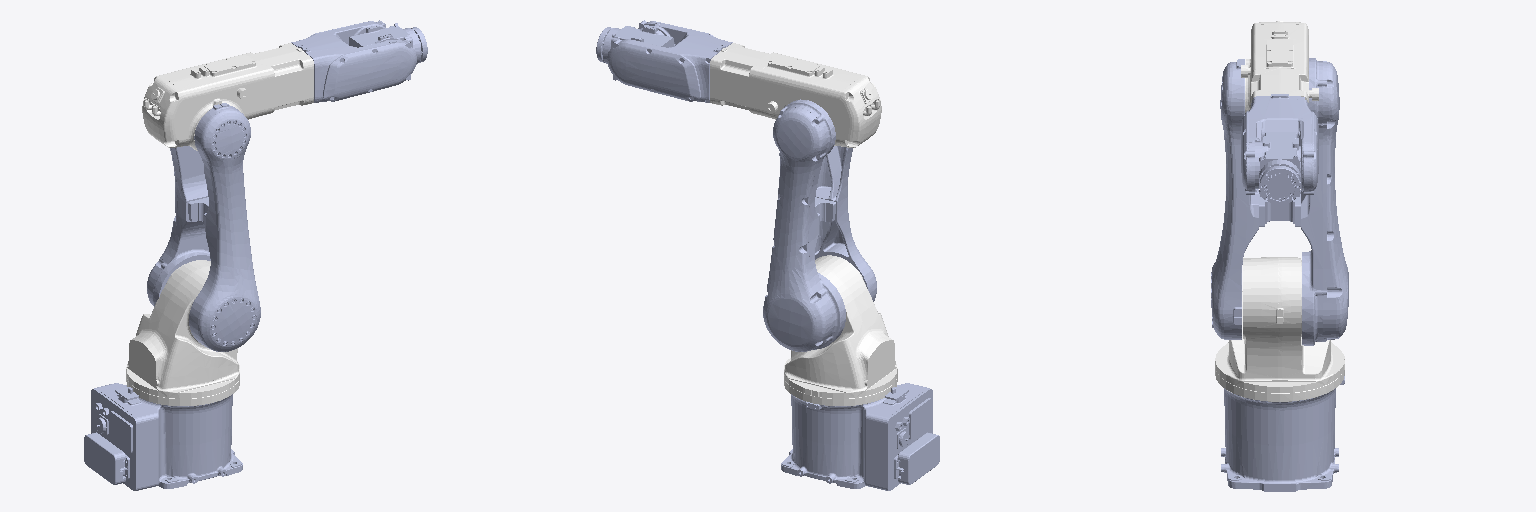
URDF robot description (R7-900_description):
<?xml version="1.0" encoding="utf-8"?>
<!-- This URDF was automatically created by SolidWorks to URDF Exporter! Originally created by [author] ([email redacted]) 
     Commit Version: 1.6.0-4-g7f85cfe  Build Version: 1.6.7995.38578
     For more information, please see http://wiki.ros.org/sw_urdf_exporter -->
<robot
  name="R7-900_description">
  <link
    name="base_link">
    <inertial>
      <origin
        xyz="-0.040413 -3.6248E-05 0.092724"
        rpy="0 0 0" />
      <mass
        value="9.3967" />
      <inertia
        ixx="0.054482"
        ixy="-0.00012575"
        ixz="-0.0033739"
        iyy="0.087595"
        iyz="-9.5456E-06"
        izz="0.084152" />
    </inertial>
    <visual>
      <origin
        xyz="0 0 0"
        rpy="0 0 0" />
      <geometry>
        <mesh
          filename="package://QJ7-900_stl/meshes/base_link.STL" />
      </geometry>
      <material
        name="">
        <color
          rgba="0.79216 0.81961 0.93333 1" />
      </material>
    </visual>
    <collision>
      <origin
        xyz="0 0 0"
        rpy="0 0 0" />
      <geometry>
        <mesh
          filename="package://QJ7-900_stl/meshes/base_link.STL" />
      </geometry>
    </collision>
  </link>

  <link
    name="link_1">
    <inertial>
      <origin
        xyz="0.015148 -0.0035955 0.090973"
        rpy="0 0 0" />
      <mass
        value="6.0875" />
      <inertia
        ixx="0.040605"
        ixy="0.00058873"
        ixz="-0.0077766"
        iyy="0.046881"
        iyz="0.0011242"
        izz="0.032179" />
    </inertial>
    <visual>
      <origin
        xyz="0 0 0"
        rpy="0 0 0" />
      <geometry>
        <mesh
          filename="package://QJ7-900_stl/meshes/link_1.STL" />
      </geometry>
      <material
        name="">
        <color
          rgba="1 1 1 1" />
      </material>
    </visual>
    <collision>
      <origin
        xyz="0 0 0"
        rpy="0 0 0" />
      <geometry>
        <mesh
          filename="package://QJ7-900_stl/meshes/link_1.STL" />
      </geometry>
    </collision>
  </link>
  
  <joint
    name="joint_1"
    type="revolute">
    <origin
      xyz="0 0 0.2015"
      rpy="0 0 0" />
    <parent
      link="base_link" />
    <child
      link="link_1" />
    <axis
      xyz="0 0 -1" />
    <limit
      lower="-3"
      upper="3"
      effort="100"
      velocity="3" />
  </joint>
  <link
    name="link_2">
    <inertial>
      <origin
        xyz="0.0061742 0.15315 0.038744"
        rpy="0 0 0" />
      <mass
        value="4.1869" />
      <inertia
        ixx="0.15454"
        ixy="-0.00049253"
        ixz="0.0002854"
        iyy="0.039229"
        iyz="-0.00030574"
        izz="0.12528" />
    </inertial>
    <visual>
      <origin
        xyz="0 0 0"
        rpy="0 0 0" />
      <geometry>
        <mesh
          filename="package://QJ7-900_stl/meshes/link_2.STL" />
      </geometry>
      <material
        name="">
        <color
          rgba="0.79216 0.81961 0.93333 1" />
      </material>
    </visual>
    <collision>
      <origin
        xyz="0 0 0"
        rpy="0 0 0" />
      <geometry>
        <mesh
          filename="package://QJ7-900_stl/meshes/link_2.STL" />
      </geometry>
    </collision>
  </link>
  <joint
    name="joint_2"
    type="revolute">
    <origin
      xyz="0.05 0.041 0.162"
      rpy="1.5708 0 0" />
    <parent
      link="link_1" />
    <child
      link="link_2" />
    <axis
      xyz="0 0 -1" />
    <limit
      lower="-3"
      upper="3"
      effort="100"
      velocity="3" />
  </joint>
  <link
    name="link_3">
    <inertial>
      <origin
        xyz="0.038554 -0.043544 0.052978"
        rpy="0 0 0" />
      <mass
        value="5.2733" />
      <inertia
        ixx="0.054795"
        ixy="0.0051339"
        ixz="0.00075606"
        iyy="0.015457"
        iyz="-0.00092549"
        izz="0.057401" />
    </inertial>
    <visual>
      <origin
        xyz="0 0 0"
        rpy="0 0 0" />
      <geometry>
        <mesh
          filename="package://QJ7-900_stl/meshes/link_3.STL" />
      </geometry>
      <material
        name="">
        <color
          rgba="1 1 1 1" />
      </material>
    </visual>
    <collision>
      <origin
        xyz="0 0 0"
        rpy="0 0 0" />
      <geometry>
        <mesh
          filename="package://QJ7-900_stl/meshes/link_3.STL" />
      </geometry>
    </collision>
  </link>
  <joint
    name="joint_3"
    type="revolute">
    <origin
      xyz="0 0.42 -0.008"
      rpy="0 0 1.5708" />
    <parent
      link="link_2" />
    <child
      link="link_3" />
    <axis
      xyz="0 0 -1" />
    <limit
      lower="-3"
      upper="3"
      effort="100"
      velocity="3" />
  </joint>
  <link
    name="link_4">
    <inertial>
      <origin
        xyz="-0.00029498 -0.0013119 0.090128"
        rpy="0 0 0" />
      <mass
        value="2.2276" />
      <inertia
        ixx="0.012856"
        ixy="5.5068E-07"
        ixz="-3.9033E-05"
        iyy="0.010225"
        iyz="0.00032748"
        izz="0.0062976" />
    </inertial>
    <visual>
      <origin
        xyz="0 0 0"
        rpy="0 0 0" />
      <geometry>
        <mesh
          filename="package://QJ7-900_stl/meshes/link_4.STL" />
      </geometry>
      <material
        name="">
        <color
          rgba="0.79216 0.81961 0.93333 1" />
      </material>
    </visual>
    <collision>
      <origin
        xyz="0 0 0"
        rpy="0 0 0" />
      <geometry>
        <mesh
          filename="package://QJ7-900_stl/meshes/link_4.STL" />
      </geometry>
    </collision>
  </link>
  <joint
    name="joint_4"
    type="revolute">
    <origin
      xyz="0.055 -0.244 0.049"
      rpy="1.5708 0 0" />
    <parent
      link="link_3" />
    <child
      link="link_4" />
    <axis
      xyz="0 0 1" />
    <limit
      lower="-3"
      upper="3"
      effort="100"
      velocity="3" />
  </joint>
  <link
    name="link_5">
    <inertial>
      <origin
        xyz="0.0030646 -0.012914 0.03783"
        rpy="0 0 0" />
      <mass
        value="0.79838" />
      <inertia
        ixx="0.0015898"
        ixy="-5.4489E-05"
        ixz="2.0444E-05"
        iyy="0.00079629"
        iyz="-3.4472E-05"
        izz="0.001549" />
    </inertial>
    <visual>
      <origin
        xyz="0 0 0"
        rpy="0 0 0" />
      <geometry>
        <mesh
          filename="package://QJ7-900_stl/meshes/link_5.STL" />
      </geometry>
      <material
        name="">
        <color
          rgba="0.79216 0.81961 0.93333 1" />
      </material>
    </visual>
    <collision>
      <origin
        xyz="0 0 0"
        rpy="0 0 0" />
      <geometry>
        <mesh
          filename="package://QJ7-900_stl/meshes/link_5.STL" />
      </geometry>
    </collision>
  </link>
  <joint
    name="joint_5"
    type="revolute">
    <origin
      xyz="0 -0.033 0.186"
      rpy="-1.5518 0 0" />
    <parent
      link="link_4" />
    <child
      link="link_5" />
    <axis
      xyz="0 -0.018946 -0.99982" />
    <limit
      lower="-3"
      upper="3"
      effort="100"
      velocity="3" />
  </joint>
  <link
    name="link_6">
    <inertial>
      <origin
        xyz="6.1991E-05 -4.8508E-10 0.0054511"
        rpy="0 0 0" />
      <mass
        value="0.050698" />
      <inertia
        ixx="1.9067E-05"
        ixy="-8.0934E-14"
        ixz="-2.2326E-09"
        iyy="1.9041E-05"
        iyz="2.6839E-14"
        izz="3.6864E-05" />
    </inertial>
    <visual>
      <origin
        xyz="0 0 0"
        rpy="0 0 0" />
      <geometry>
        <mesh
          filename="package://QJ7-900_stl/meshes/link_6.STL" />
      </geometry>
      <material
        name="">
        <color
          rgba="0.79216 0.81961 0.93333 1" />
      </material>
    </visual>
    <collision>
      <origin
        xyz="0 0 0"
        rpy="0 0 0" />
      <geometry>
        <mesh
          filename="package://QJ7-900_stl/meshes/link_6.STL" />
      </geometry>
    </collision>
  </link>
  <joint
    name="joint_6"
    type="revolute">
    <origin
      xyz="3.7006E-05 -0.08286 0.034576"
      rpy="1.5518 0 0" />
    <parent
      link="link_5" />
    <child
      link="link_6" />
    <axis
      xyz="0 0 1" />
    <limit
      lower="-3"
      upper="3"
      effort="100"
      velocity="3" />
  </joint>
</robot>

--- What the picture shows (computed from the rendered views, not written in the file) ---
The picture shows the robot from 3 angles, left to right: view 1: azimuth 30°, elevation 25°; view 2: azimuth 150°, elevation 25°; view 3: azimuth 270°, elevation 25°; orthographic projection.
Robot: R7-900_description — 7 links, 6 joints (6 revolute); root link base_link; default pose: all joints at 0.
Visible links, largest first — view 1: link_2, base_link, link_3, link_1, link_4, link_5; view 2: link_2, base_link, link_3, link_1, link_4, link_5; view 3: link_2, link_1, base_link, link_3, link_4, link_5, link_6.
Link boxes in pixels (left/top/right/bottom): link_2: left=147, top=103, right=260, bottom=351; base_link: left=84, top=383, right=242, bottom=490; link_3: left=142, top=43, right=313, bottom=150; link_1: left=126, top=260, right=239, bottom=405; link_4: left=291, top=20, right=416, bottom=102; link_5: left=349, top=23, right=422, bottom=64; link_2: left=763, top=99, right=876, bottom=351; base_link: left=781, top=383, right=939, bottom=490; link_3: left=710, top=43, right=881, bottom=147; link_1: left=784, top=255, right=897, bottom=405; link_4: left=607, top=20, right=732, bottom=102; link_5: left=601, top=25, right=673, bottom=63; link_2: left=1211, top=58, right=1348, bottom=345; link_1: left=1215, top=257, right=1344, bottom=401; base_link: left=1221, top=376, right=1344, bottom=491; link_3: left=1241, top=21, right=1318, bottom=112; link_4: left=1241, top=94, right=1318, bottom=194; link_5: left=1255, top=132, right=1300, bottom=199; link_6: left=1260, top=166, right=1299, bottom=204.
Bounding box of the posed robot: 0.7806 × 0.258 × 0.911 m (x, y, z).
Meshes: 7 distinct files referenced, 7 mesh visuals loaded (7 binary STL).